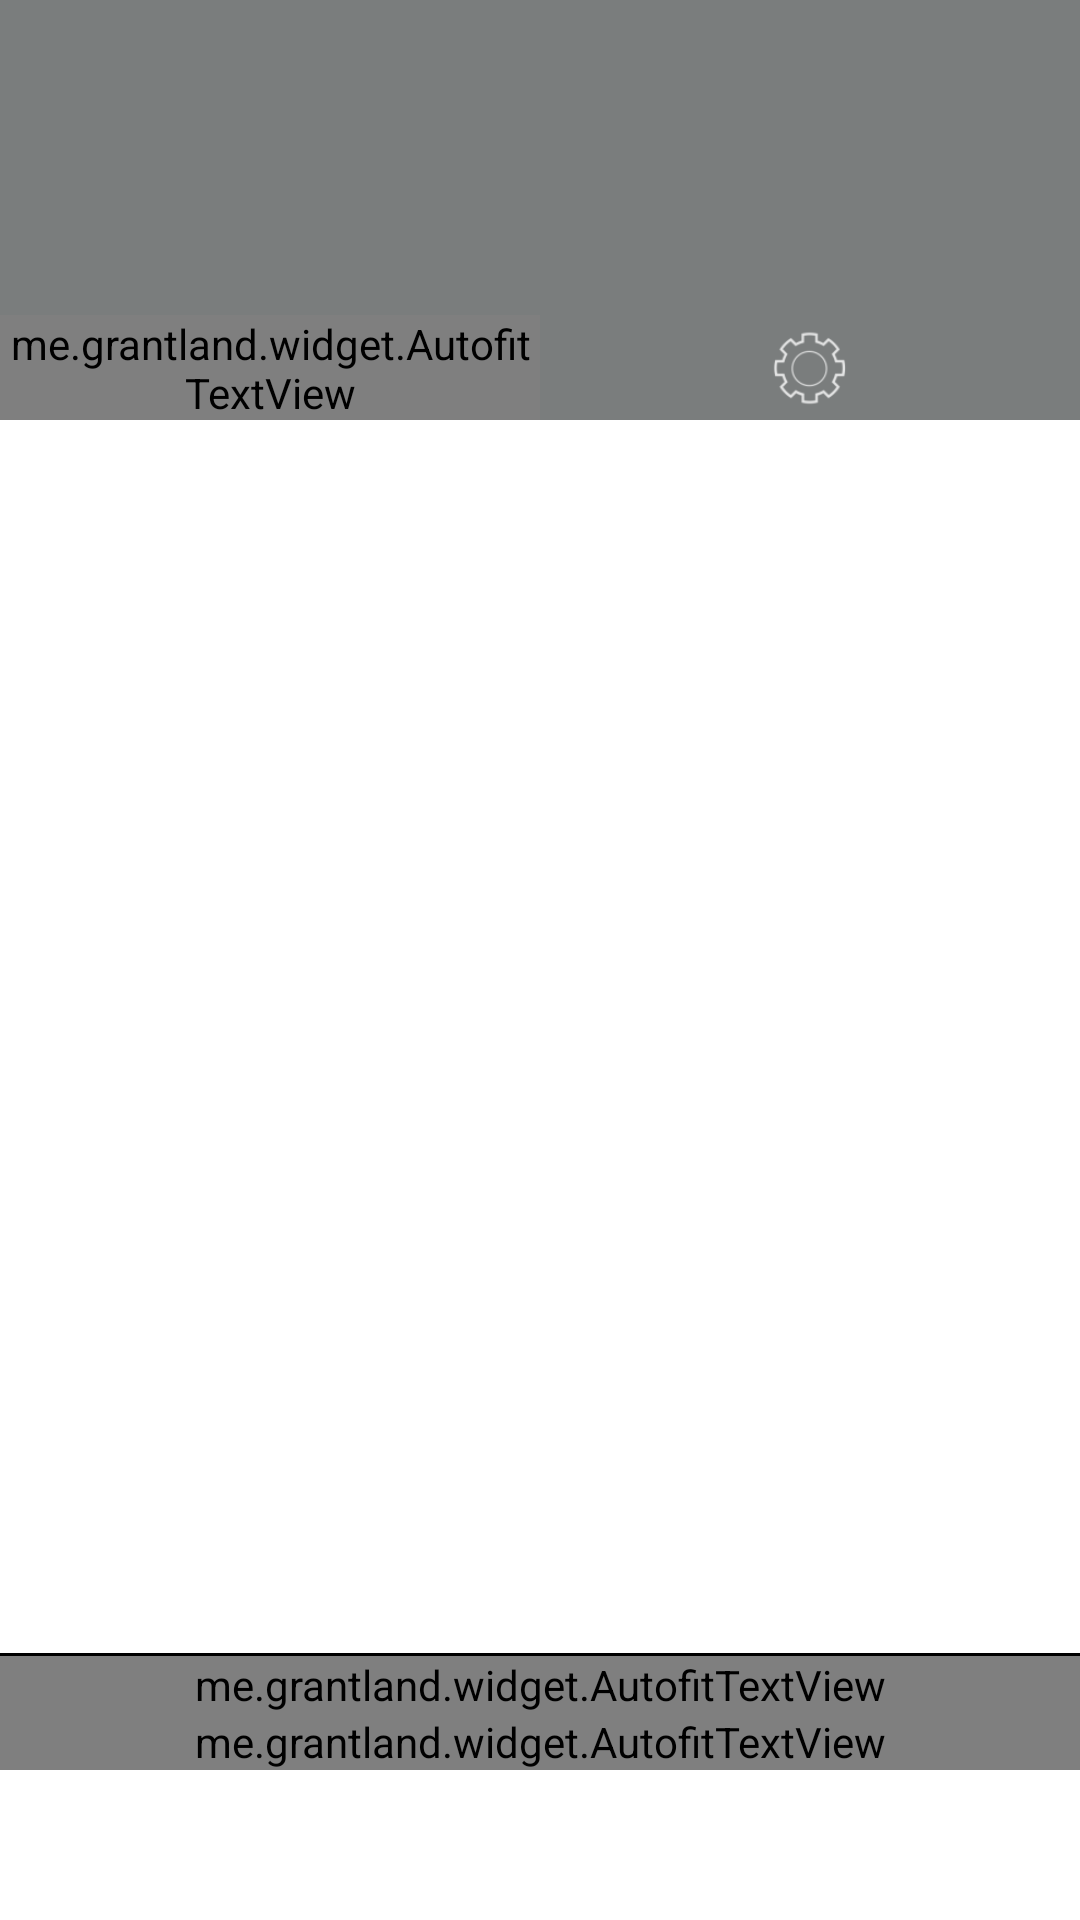

Icons on this 1080px x 1920px Android screen, each with its box as bbox=(x1, y1, x2, y2):
settings action: bbox=(774, 332, 845, 404)
